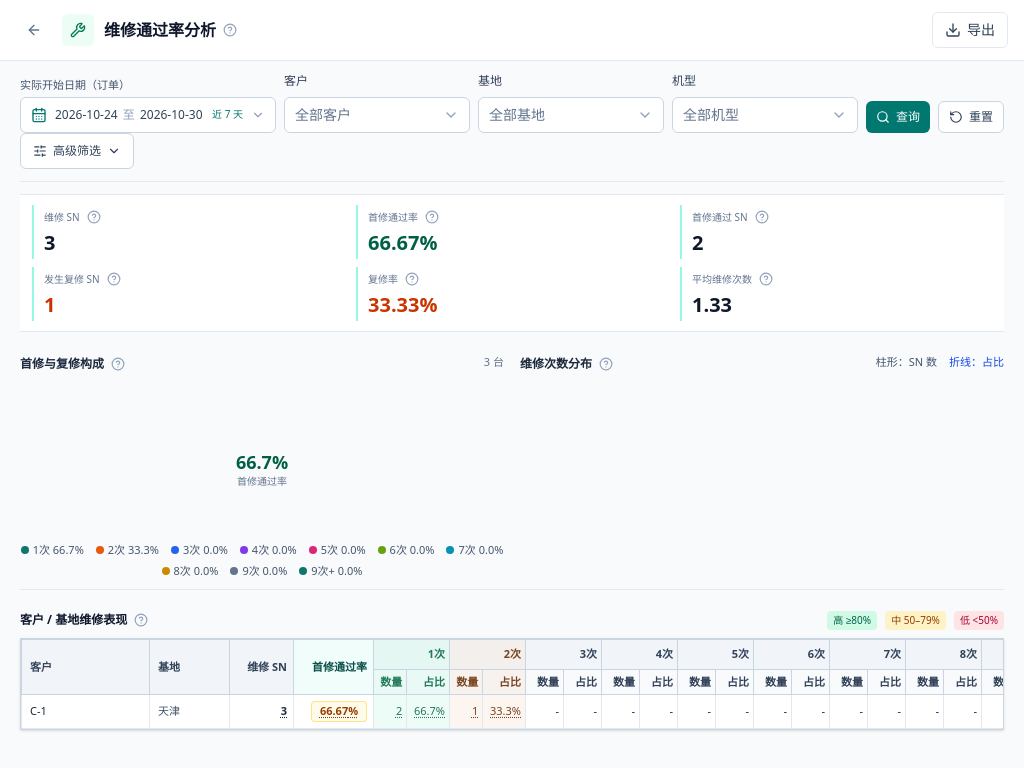
Test case: RepairQualityPage › queries the selected shortcut and resets the unified control to its initial range
Expected: the heading "客户 / 基地维修表现" is shown, [20,612,127,628]
Click the button named "实际开始日期（订单）".
click(148, 115)  # box [20,97,276,133]
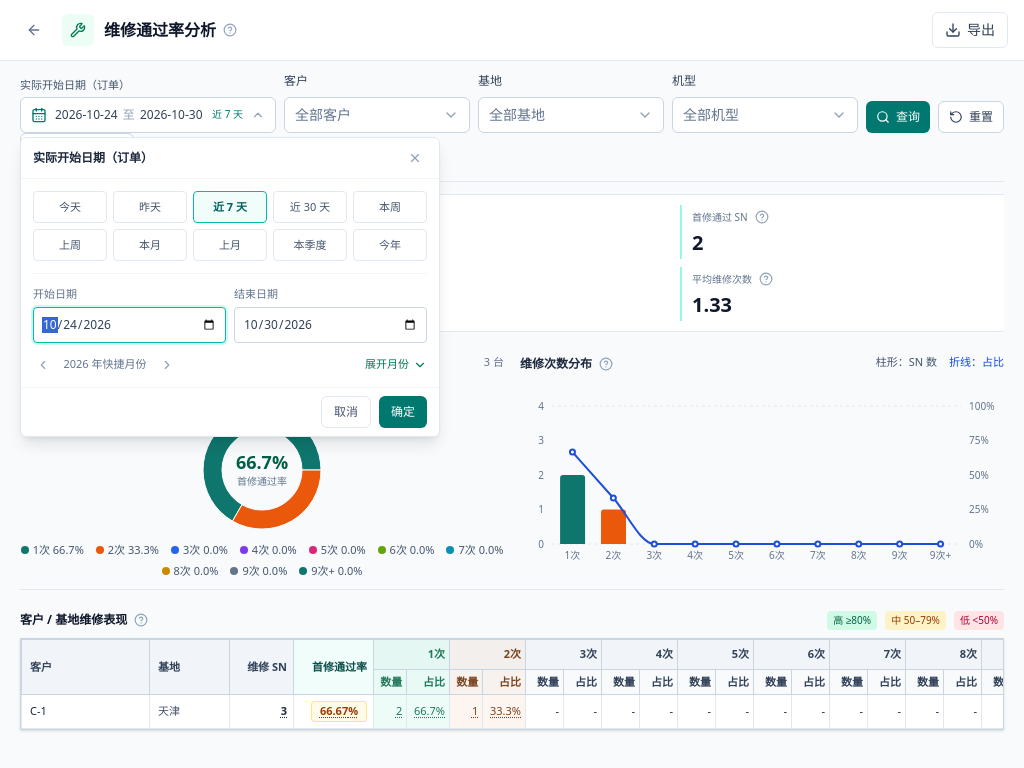
Click the button "上月".
click(230, 245)  # box [193,229,267,261]
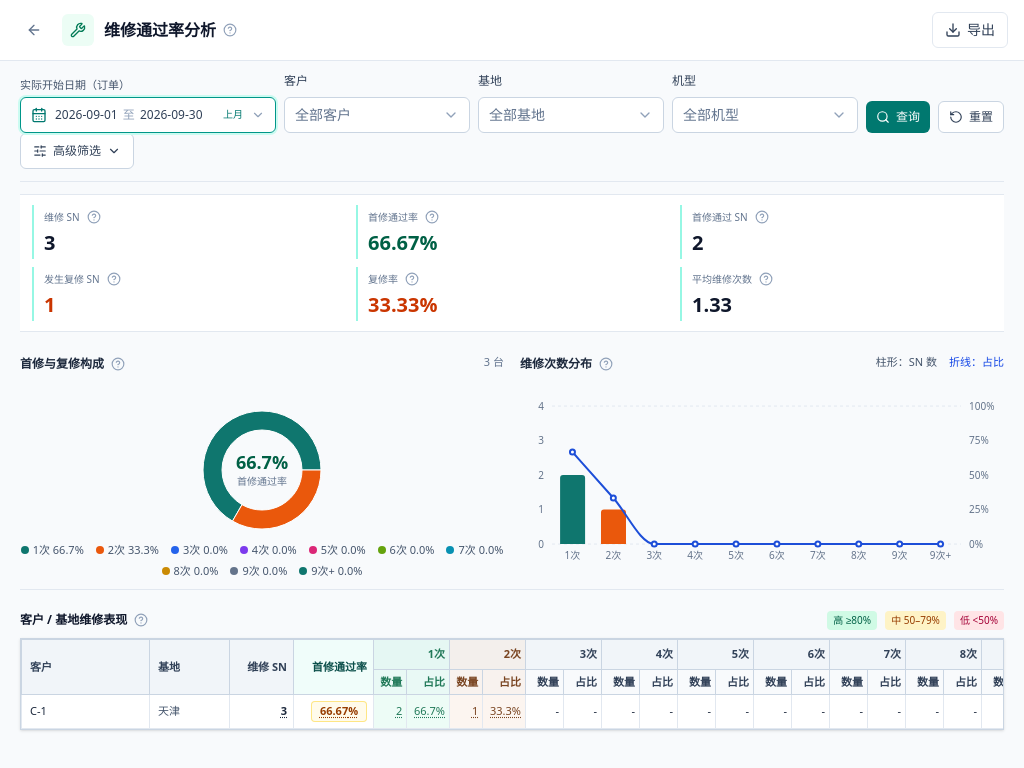
Click the button "查询".
click(898, 117)  # box [866,101,930,133]
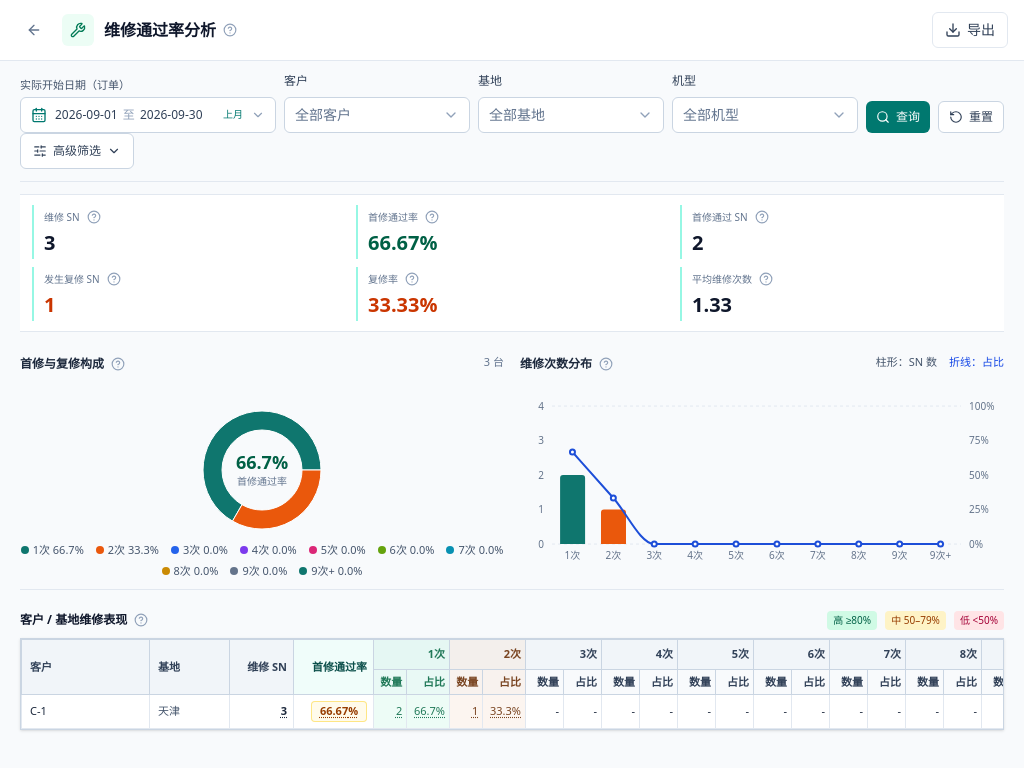
Expected: the button named "实际开始日期（订单）" is enabled, [20,97,276,133]
Click the button "重置".
click(971, 117)  # box [938,101,1004,133]
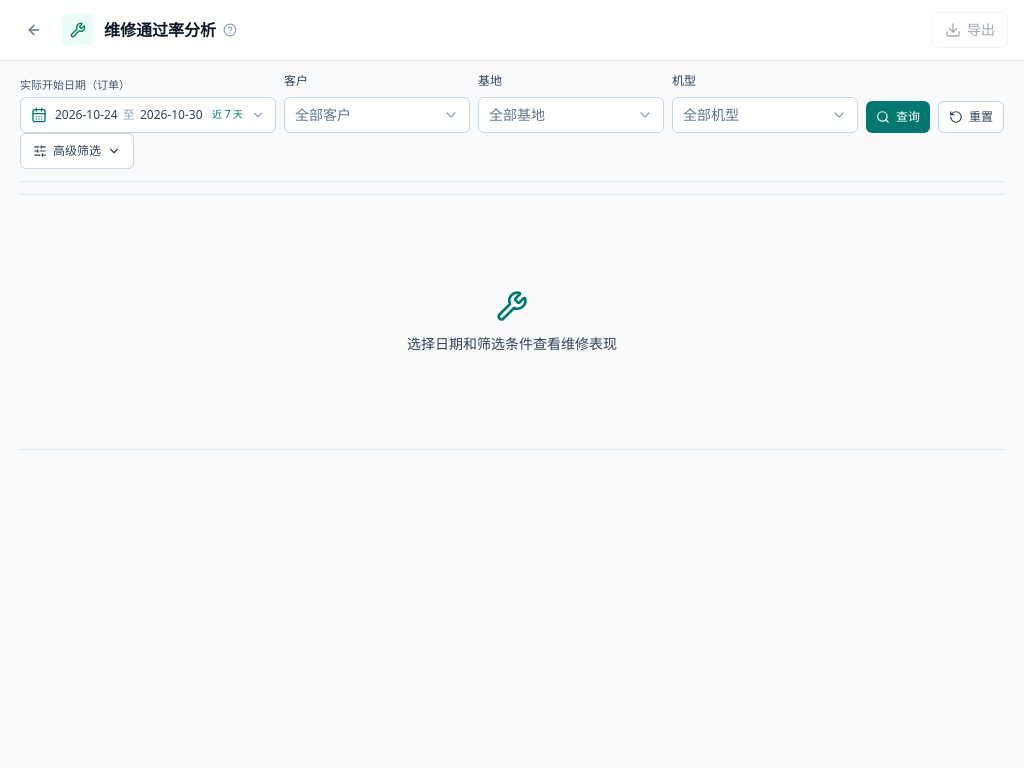
Result: the heading "客户 / 基地维修表现" is gone
